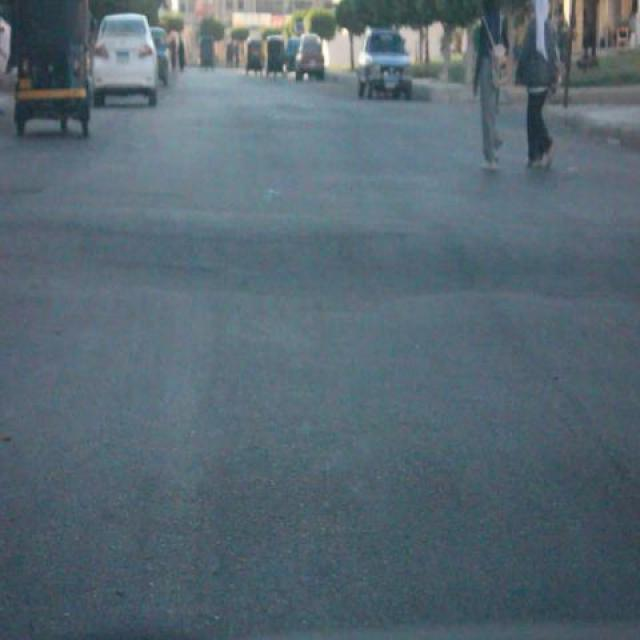Unmarked Bump: (0, 198, 640, 304)
